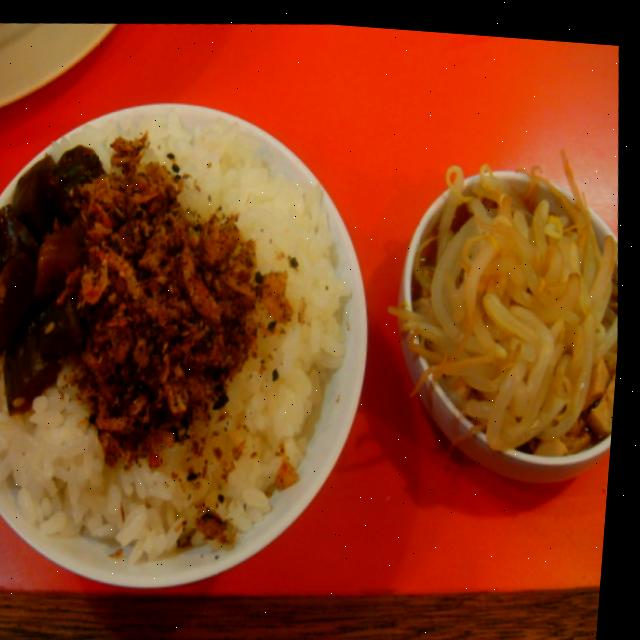米饭主食: (0, 62, 423, 624)
